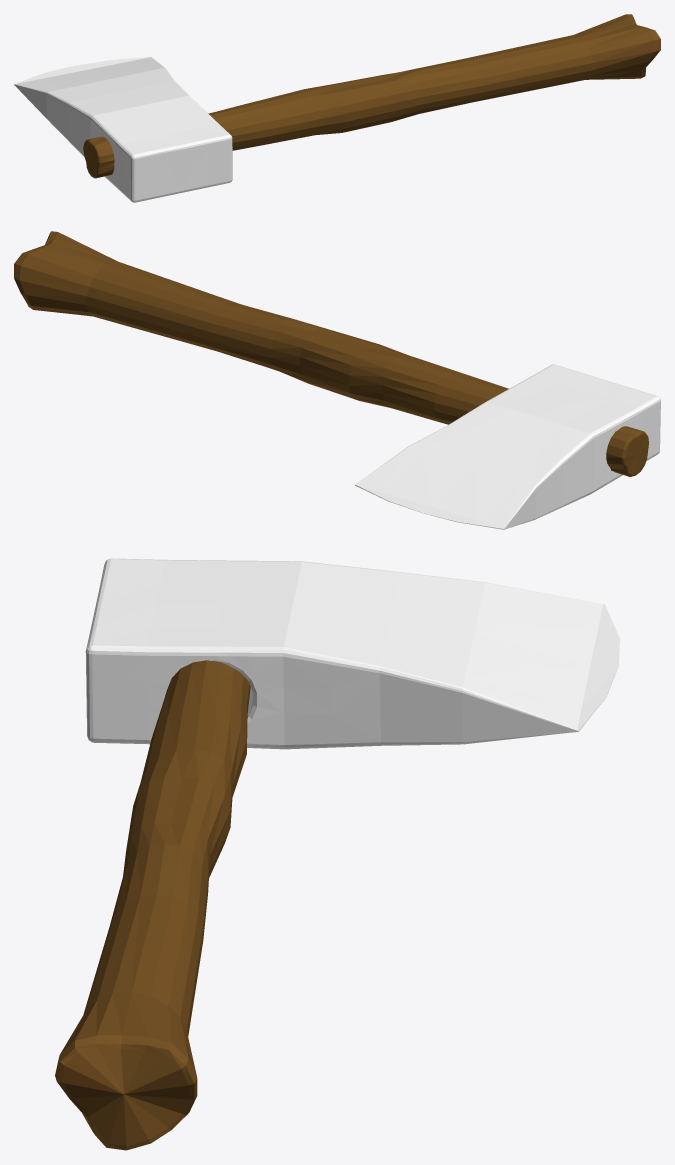
Rendered from Hatchet.obj.
The picture shows the model from 3 angles, top to bottom: view 1: azimuth 30°, elevation 25°; view 2: azimuth 150°, elevation 25°; view 3: azimuth 270°, elevation 25°; orthographic projection. The views are drawn at different scales.
Visible parts, largest first — view 1: Handle, Blade; view 2: Handle, Blade; view 3: Blade, Handle.
Part boxes in pixels (<box>): Handle: <box>83,14,660,178</box>; Blade: <box>14,56,232,202</box>; Handle: <box>14,231,648,476</box>; Blade: <box>355,364,660,529</box>; Blade: <box>85,558,619,749</box>; Handle: <box>55,660,250,1150</box>.
Bounding box in the file's own units: 205 × 20.48 × 94.37.
